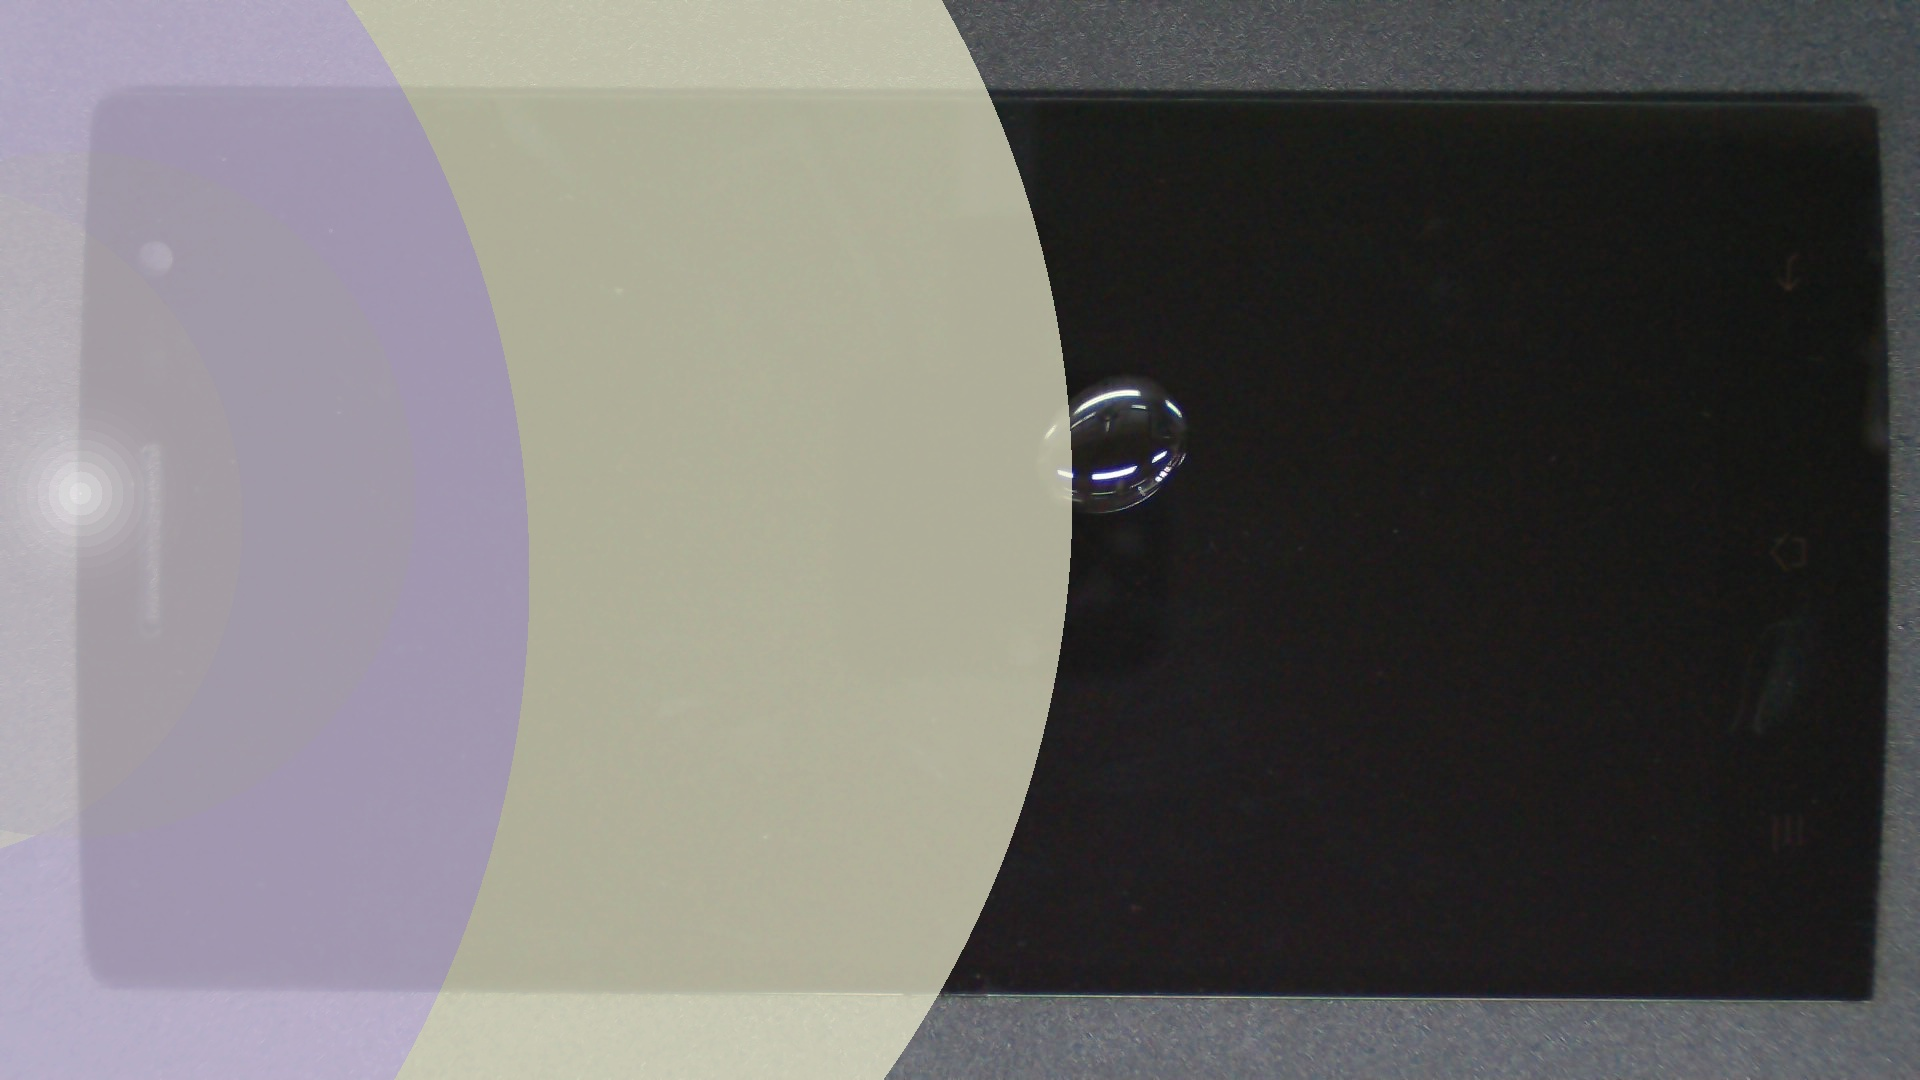oil: (558, 187, 1672, 563)
